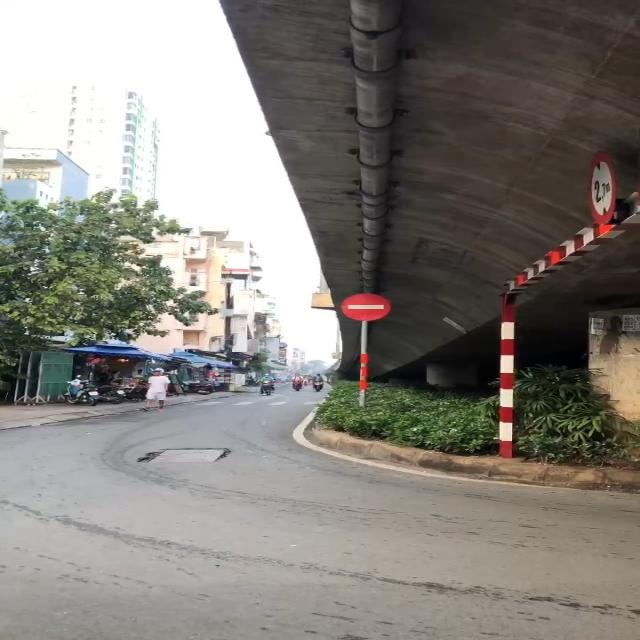Bien bao cam di nguoc chieu: (339, 289, 393, 324)
Bien bao han che chieu cao: (579, 152, 629, 228)
